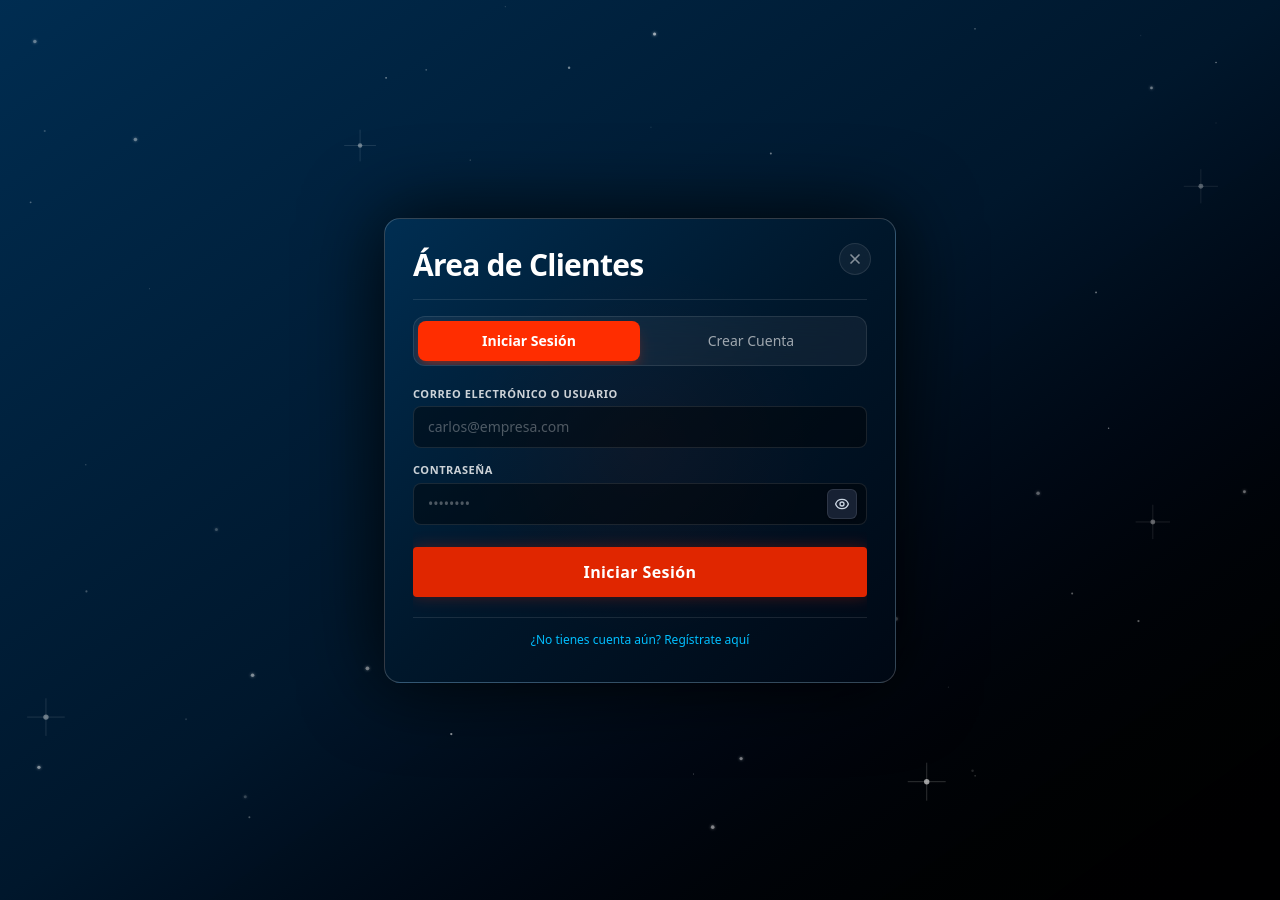
it: AuthModal Component (100% Coverage Suite) › debe mostrar mensaje de error si el login falla
The image size is (1280, 900).
Type "test@example.com" into the field with placeholder "carlos@empresa.com". click: (640, 427)
box: [413,406,867,448]
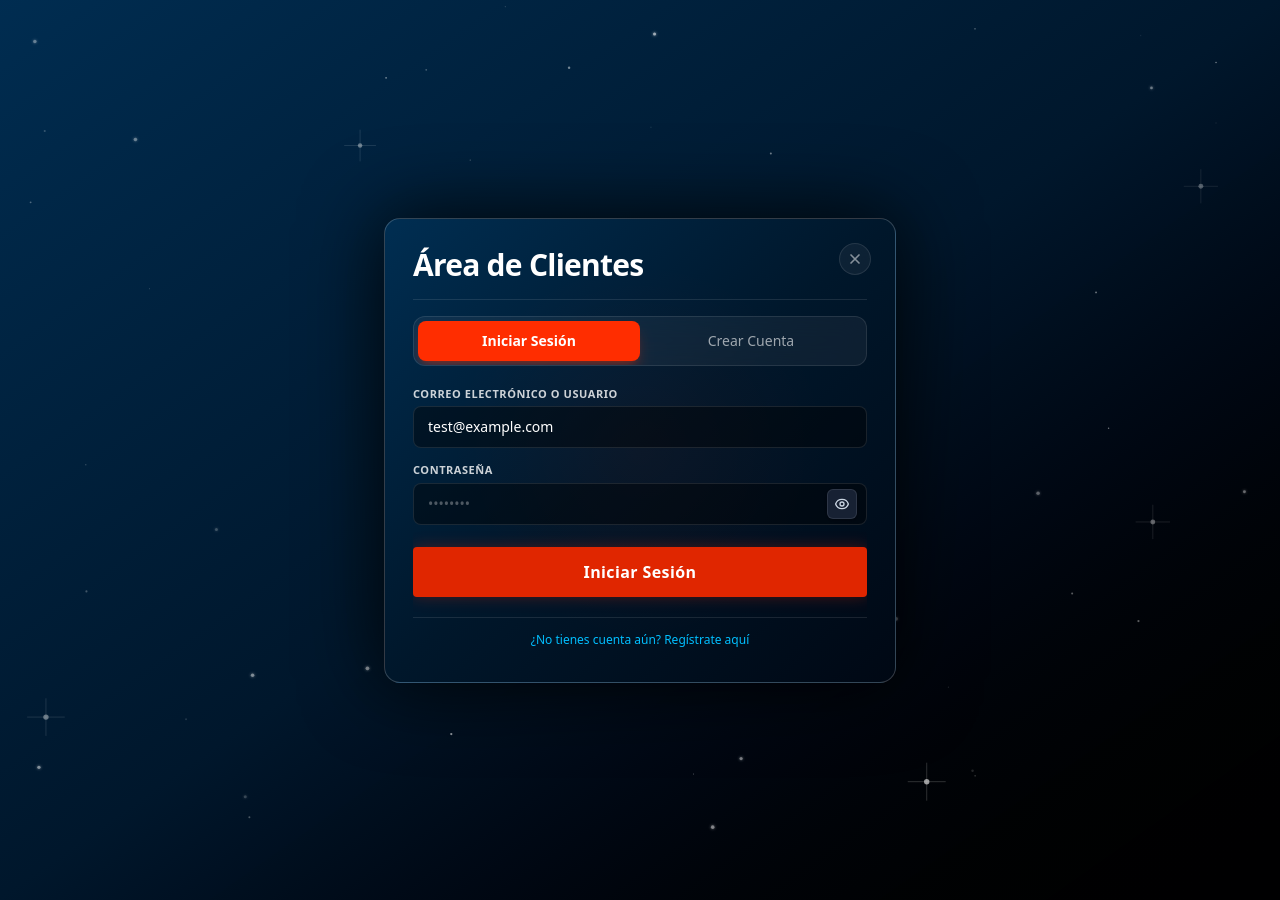
Type "wrongpass" into the password field with placeholder "••••••••". click: (640, 504)
box: [413,482,867,524]
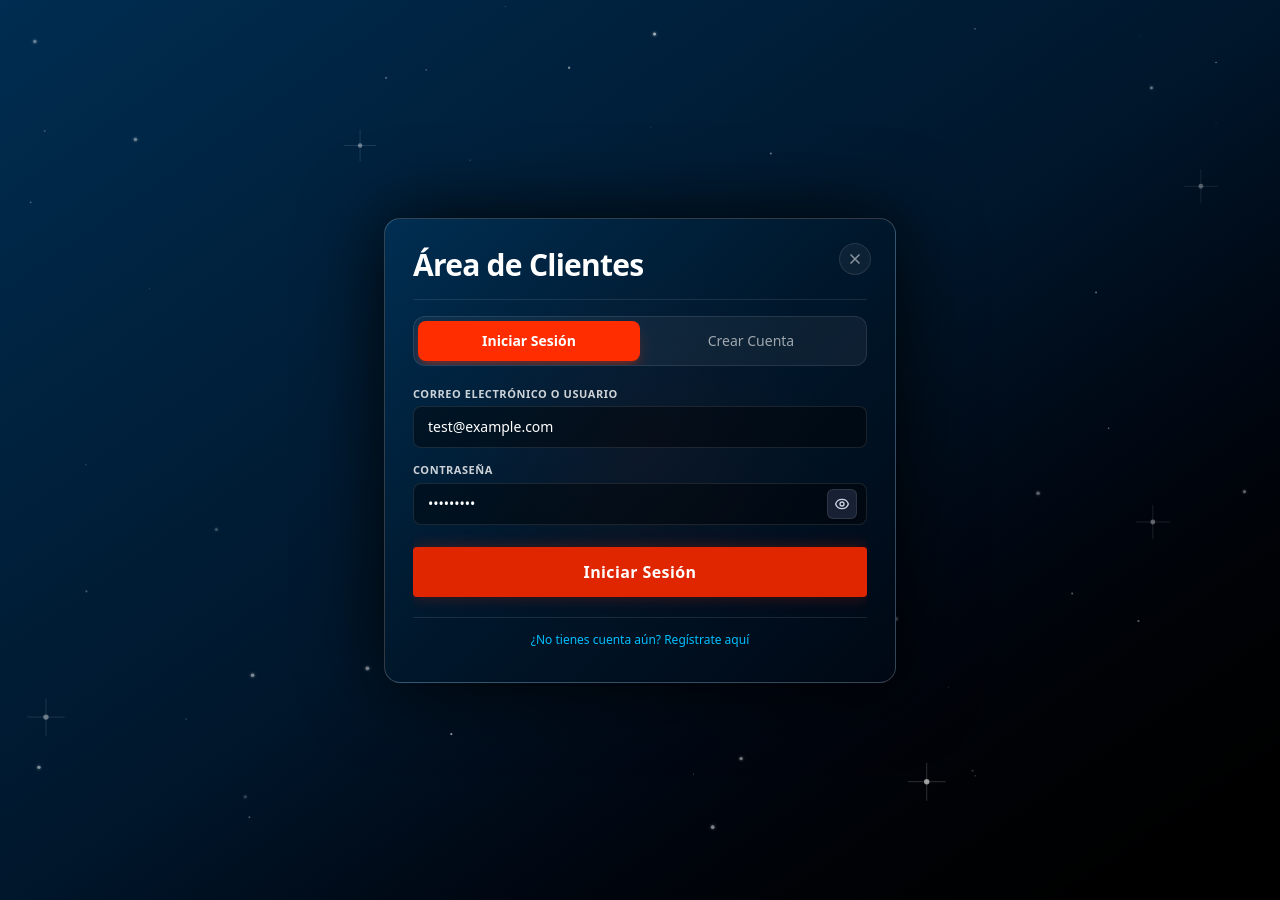
Click the button "Iniciar Sesión" below "Contraseña". click: (640, 572)
box: [413,546,867,596]
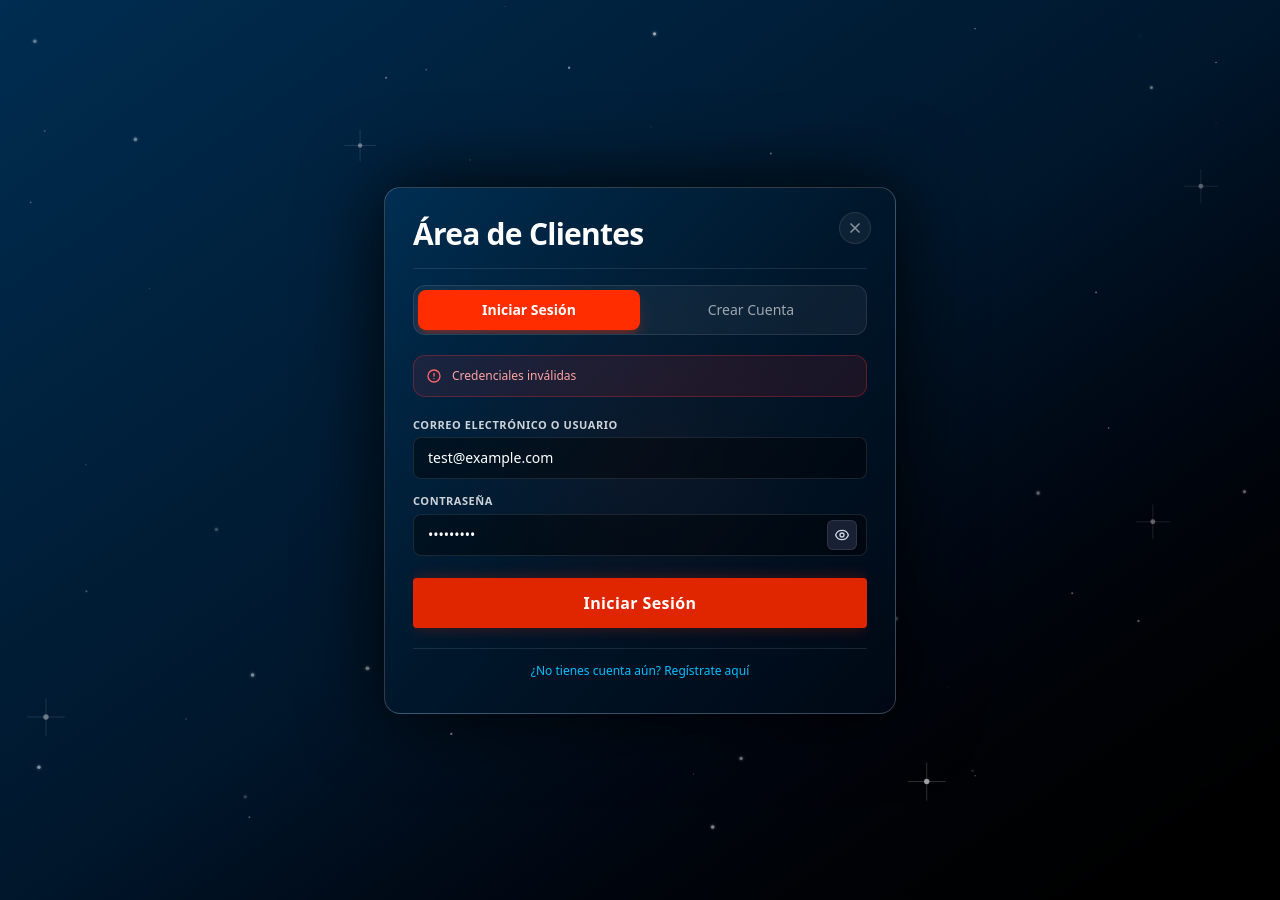
Result: the text "Credenciales inválidas" is shown at [452,368,576,384]
